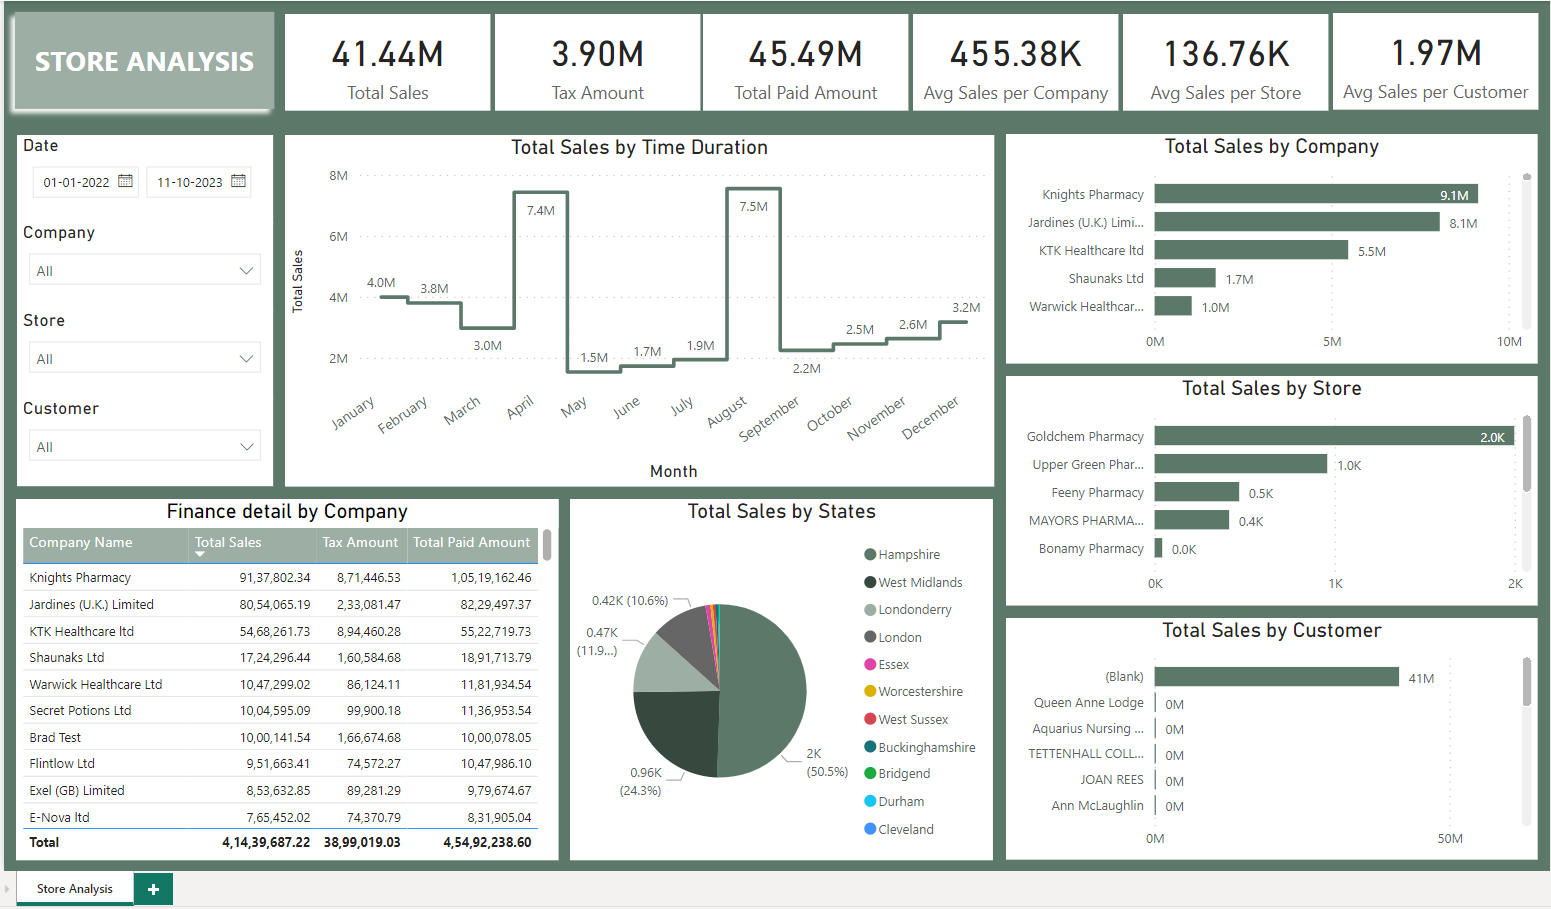

Layout of this report page (visuals, bound fields, positions):
{"tool":"powerbi","page":{"name":"Store Analysis","canvas":[1280,720],"ordinal":0},"visuals":[{"type":"slicer","title":"Date","fields":{"Values":["PBI_Sales.Financial Year"]},"box":[10.5,110.6,211.6,73],"z":0},{"type":"barChart","title":"Total Sales by Company","fields":{"Category":["PBI_Sales.CompanyName"],"Y":["PBI_Sales.netamount"]},"box":[829.1,110.3,440,190],"z":1000},{"type":"lineChart","fields":{"Y":["# Measures Table.Total Sales"],"Category":["PBI_Sales.Qtr","PBI_Sales.MonthName"]},"box":[232.7,110.6,586.5,290.6],"z":2000},{"type":"barChart","title":"Total Sales by Customer","fields":{"Category":["PBI_Customer.Customer Name"],"Y":["PBI_Sales.netamount"]},"box":[829.1,510.9,440,200.3],"z":3000},{"type":"pieChart","title":"Total Sales by States","fields":{"Category":["PBI_Customer.StateName"],"Y":["# Measures Table.Total Sales"]},"box":[468.6,412.3,350.3,298.6],"z":4000},{"type":"barChart","title":"Total Sales by Store","fields":{"Category":["PBI_Store.StoreName"],"Y":["# Measures Table.Total Sales"]},"box":[829.1,310.6,440,190],"z":5000},{"type":"card","fields":{"Values":["# Measures Table.Total Sales"]},"box":[232.4,10.7,170,80],"z":6000},{"type":"slicer","title":"Customer","fields":{"Values":["PBI_Customer.Customer Name"]},"box":[10.5,328.4,212.5,72.9],"z":7000},{"type":"slicer","title":"Company","fields":{"Values":["PBI_Sales.CompanyName"]},"box":[10.5,183.2,212,73],"z":8000},{"type":"slicer","title":"Store","fields":{"Values":["PBI_Store.StoreName"]},"box":[10.7,255.8,212,73],"z":9000},{"type":"card","fields":{"Values":["# Measures Table.Total Paid Amount"]},"box":[579.3,10.7,170,80],"z":10000},{"type":"card","fields":{"Values":["# Measures Table.Avg Sales per Company"]},"box":[752.8,10.7,170,80],"z":11000},{"type":"card","fields":{"Values":["# Measures Table.Avg Sales per Customer"]},"box":[1099.7,10.3,170,80],"z":12000},{"type":"card","fields":{"Values":["# Measures Table.Unpaid Amount"]},"box":[405.9,10.7,170,80],"z":13000},{"type":"card","fields":{"Values":["# Measures Table.Avg Sales per Store"]},"box":[926.2,10.7,170,80],"z":14000},{"type":"tableEx","title":"Finance detail by Company","fields":{"Values":["PBI_Sales.CompanyName","# Measures Table.Total Sales","# Measures Table.Unpaid Amount","# Measures Table.Total Paid Amount"]},"box":[10.3,412.3,448.9,298.6],"z":15000},{"type":"shape","box":[0,0,232.7,98.3],"z":16000}]}

Visuals, with their boxes in screenshot pixels (x1, y1, x2, y2):
"Date" slicer: <box>25,132,278,219</box>
"Total Sales by Company" barChart: <box>1003,132,1529,359</box>
lineChart - # Measures Table.Total Sales x PBI_Sales.Qtr: <box>290,132,991,479</box>
"Total Sales by Customer" barChart: <box>1003,611,1529,850</box>
"Total Sales by States" pieChart: <box>572,493,991,850</box>
"Total Sales by Store" barChart: <box>1003,371,1529,598</box>
card - # Measures Table.Total Sales: <box>290,13,493,108</box>
"Customer" slicer: <box>25,392,279,480</box>
"Company" slicer: <box>25,219,278,306</box>
"Store" slicer: <box>25,306,278,393</box>
card - # Measures Table.Total Paid Amount: <box>704,13,908,108</box>
card - # Measures Table.Avg Sales per Company: <box>912,13,1115,108</box>
card - # Measures Table.Avg Sales per Customer: <box>1326,12,1529,108</box>
card - # Measures Table.Unpaid Amount: <box>497,13,700,108</box>
card - # Measures Table.Avg Sales per Store: <box>1119,13,1322,108</box>
"Finance detail by Company" tableEx: <box>24,493,561,850</box>
shape: <box>12,0,290,117</box>
